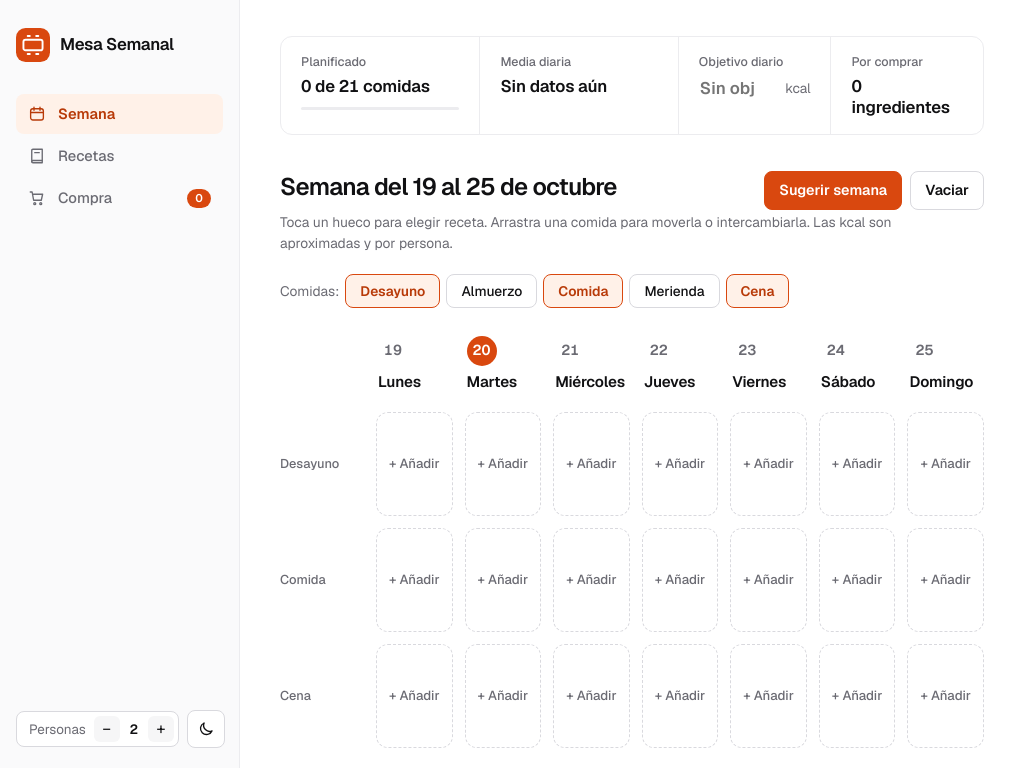
Test case: App › cambia el número de personas
The width and height of the screenshot is (1024, 768).
Click the button named "Más personas".
click(161, 729)  # box [148,716,174,742]
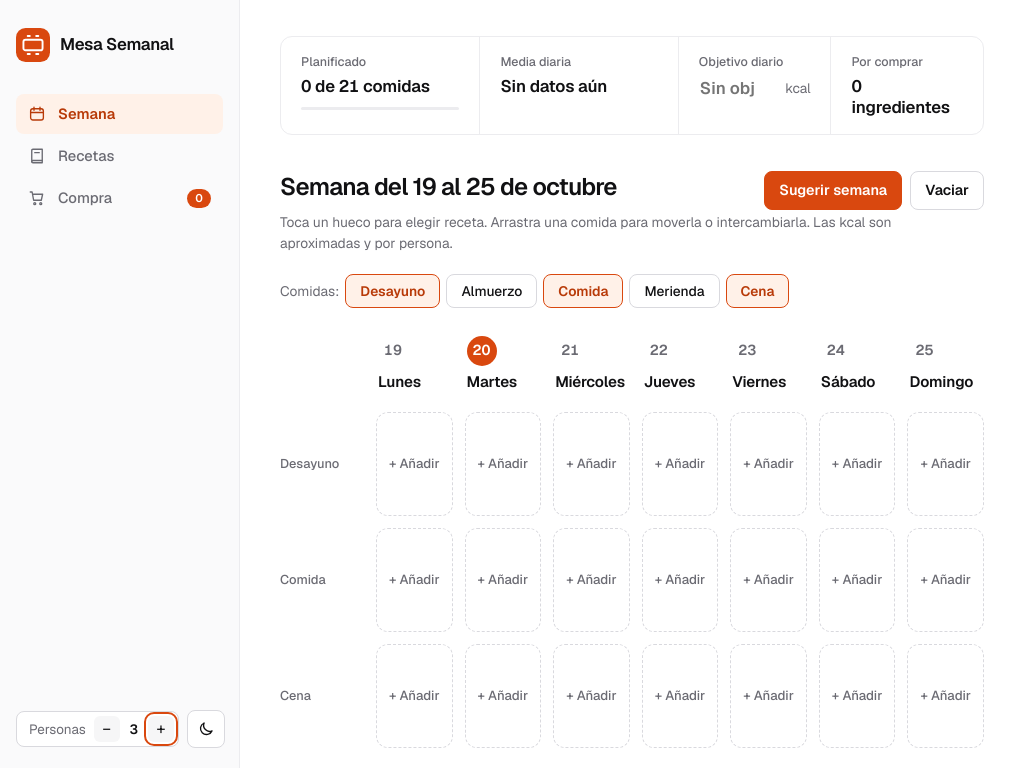
Check: the text "3" is shown, box [130,720,138,738]
